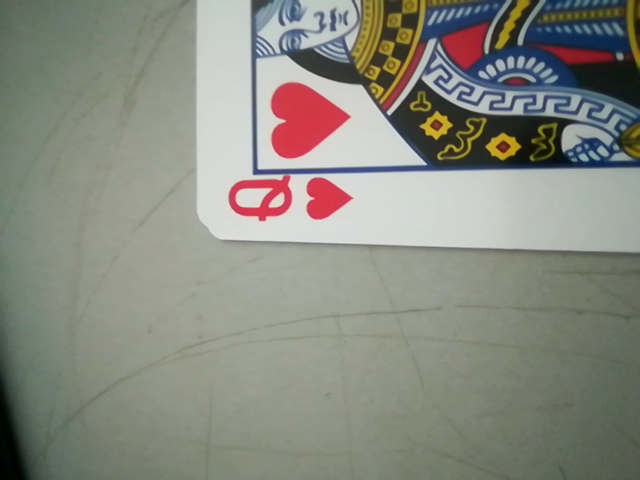hx q: (221, 167, 357, 234)
